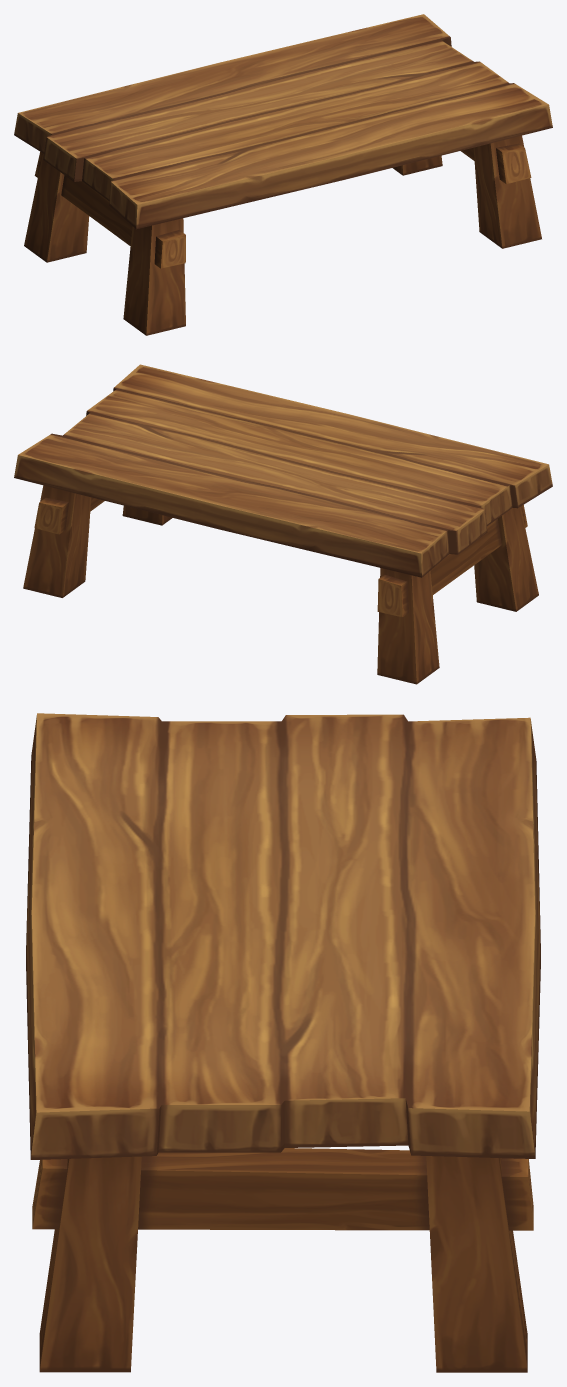
File: Table.fbx
3 renders of one model, top to bottom at view 1: azimuth 30°, elevation 25°; view 2: azimuth 150°, elevation 25°; view 3: azimuth 270°, elevation 25°, orthographic. The views are drawn at different scales.
Parts seen in each view (by area): view 1: Table; view 2: Table; view 3: Table.
Part boxes in pixels (box(x1,y1,x2,y2)): Table: box(14, 14, 552, 335); Table: box(14, 364, 552, 684); Table: box(26, 713, 540, 1372).
Size of the model in its own units: 3.26 by 1 by 1.76.
